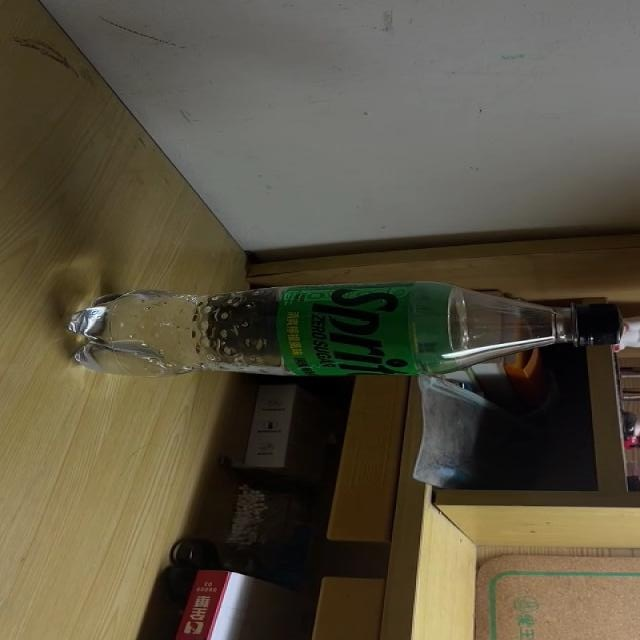Sprite: (52, 281, 625, 378)
